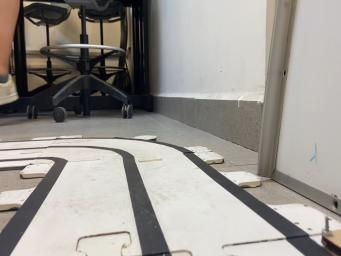street: (0, 138, 331, 255)
